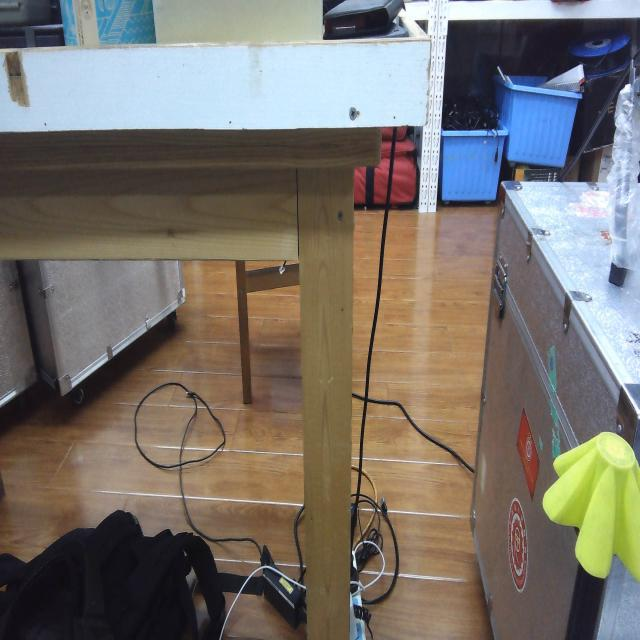Yellow-Stake-Head: (542, 431, 640, 584)
